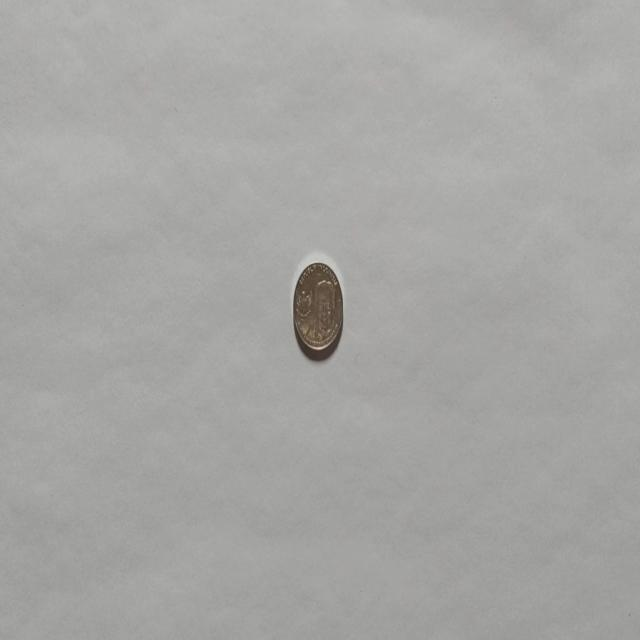seratus rupiah: (292, 260, 344, 356)
